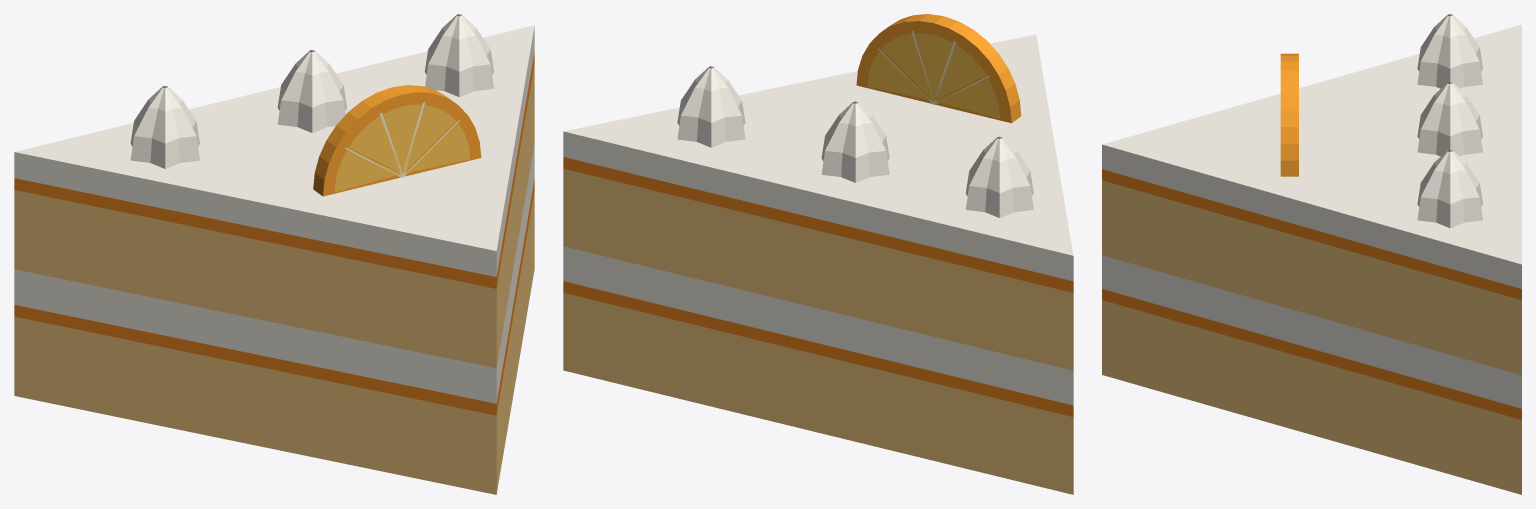
The model's file is cake.glb.
3 views of the same model, side by side, from view 1: azimuth 30°, elevation 25°; view 2: azimuth 150°, elevation 25°; view 3: azimuth 270°, elevation 25° (orthographic). The views are drawn at different scales.
Visible parts, largest first — view 1: Cake layered slice; view 2: Cake layered slice; view 3: Cake layered slice.
Boxes of the visible parts, <box> form: Cake layered slice: <box>14,14,534,494</box>; Cake layered slice: <box>563,14,1073,494</box>; Cake layered slice: <box>1102,14,1521,494</box>.
Size of the model in its own units: 0.46 by 0.28 by 0.34.
